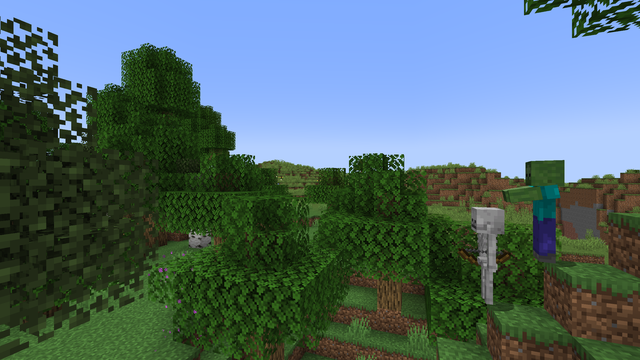squelettes: (468, 207, 507, 309)
zombies: (520, 162, 570, 264)
